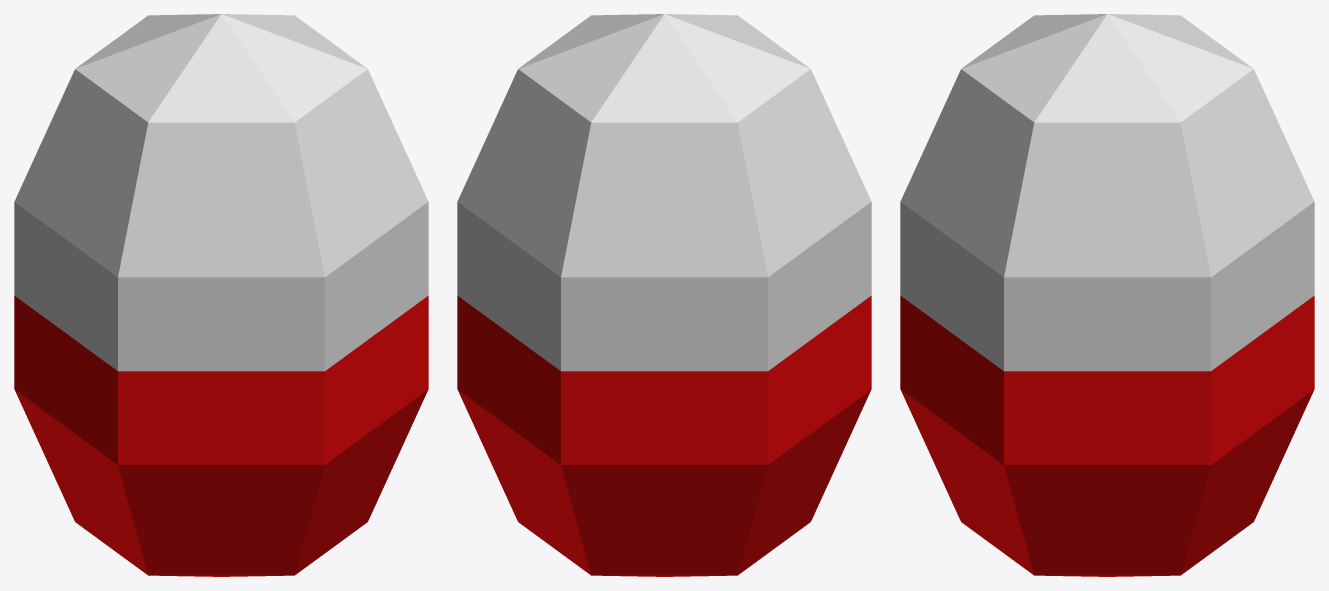
File: pigulka.fbx
3 renders of one model, left to right at view 1: azimuth 30°, elevation 25°; view 2: azimuth 150°, elevation 25°; view 3: azimuth 270°, elevation 25°, orthographic.
Parts seen in each view (by area): view 1: Sphere; view 2: Sphere; view 3: Sphere.
Boxes of the visible parts, x1,y1,x2,y2 form: Sphere: [14, 14, 428, 576]; Sphere: [457, 14, 871, 576]; Sphere: [900, 14, 1314, 576].
Size of the model in its own units: 173 by 300 by 200.
